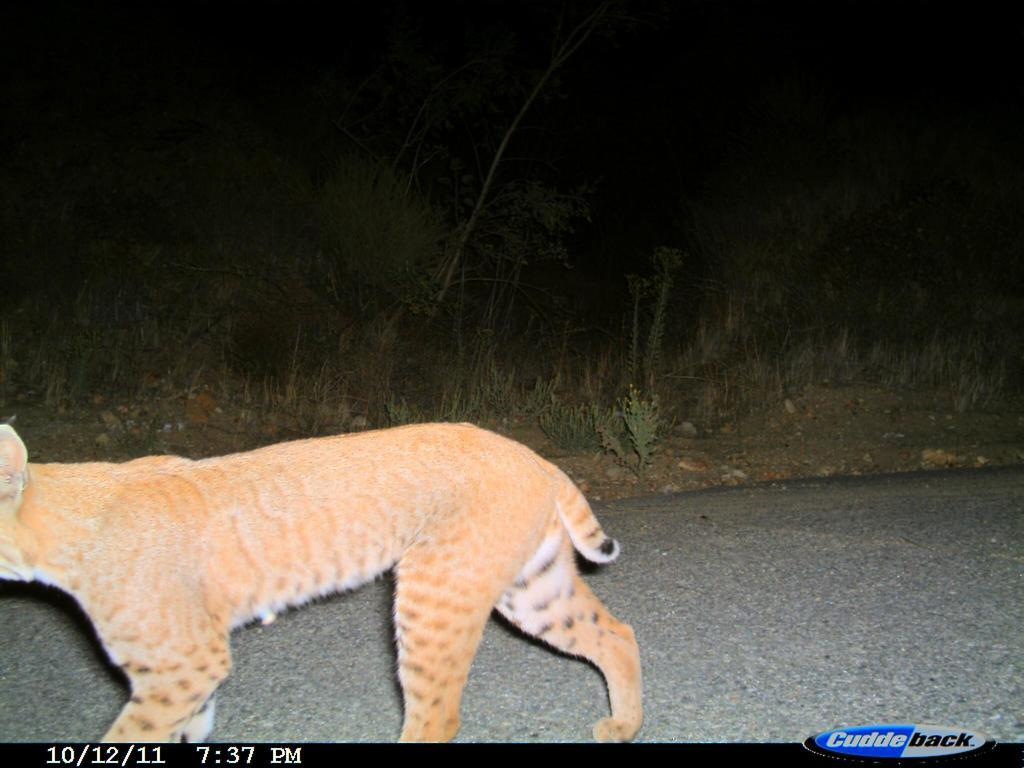bobcat: (1, 404, 648, 747)
